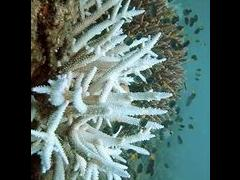bleached_corals: (30, 0, 171, 180)
